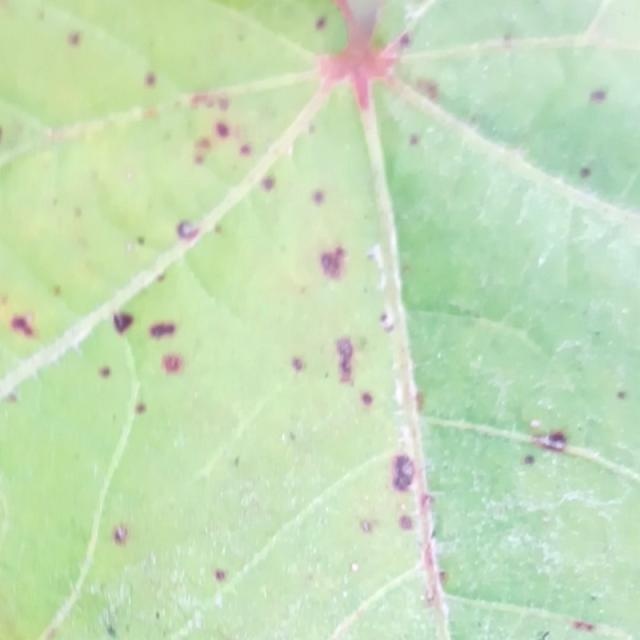Bacterial_Blight: (0, 0, 345, 378), (93, 578, 237, 640), (317, 241, 353, 284), (0, 114, 24, 156), (391, 453, 416, 492), (335, 337, 356, 383), (188, 91, 230, 111), (367, 244, 386, 279), (10, 314, 35, 338), (100, 606, 119, 635), (193, 136, 213, 163), (161, 353, 184, 375), (416, 79, 438, 101), (113, 311, 134, 334), (430, 505, 445, 537), (149, 322, 177, 338), (177, 220, 199, 240), (546, 431, 568, 451), (112, 525, 129, 545), (589, 89, 607, 103), (573, 620, 594, 632), (379, 311, 393, 329), (421, 492, 434, 511), (215, 122, 230, 138), (360, 519, 376, 534), (399, 514, 413, 531), (67, 31, 81, 47), (261, 176, 275, 191), (144, 71, 157, 87), (142, 106, 158, 119), (502, 32, 514, 49), (416, 390, 425, 412), (291, 357, 304, 372), (312, 189, 325, 204), (321, 254, 332, 271), (315, 15, 327, 30), (98, 366, 111, 379), (361, 392, 373, 406), (399, 33, 411, 47), (425, 590, 436, 605), (367, 247, 378, 261), (579, 166, 591, 178), (523, 454, 535, 466), (134, 402, 146, 414), (239, 144, 251, 156), (215, 569, 226, 582), (408, 133, 419, 146), (5, 393, 18, 404), (530, 419, 542, 430), (438, 570, 447, 583), (616, 390, 627, 400), (136, 235, 146, 246), (156, 272, 166, 283), (53, 285, 62, 296), (233, 456, 241, 467), (536, 634, 550, 640), (351, 562, 359, 572), (590, 594, 598, 603), (155, 611, 161, 621)
Cotton: (0, 85, 434, 639), (374, 0, 639, 639)
